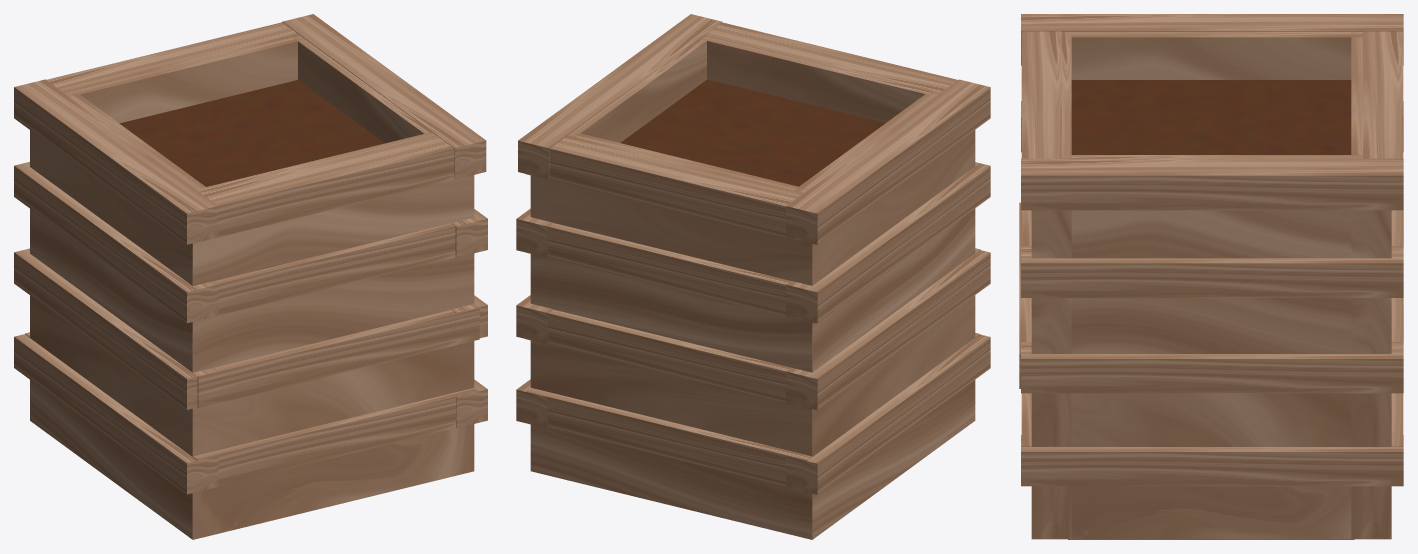
File: woodplantpot 1.fbx
3 renders of one model, left to right at view 1: azimuth 30°, elevation 25°; view 2: azimuth 150°, elevation 25°; view 3: azimuth 270°, elevation 25°, orthographic. The views are drawn at different scales.
Visible parts, largest first — view 1: pCube1, pasted__pasted__pCube1 (×2), pasted__pasted__pasted__pCube1 (×2), pasted__pasted__pasted__pasted__pasted__pCube1 (×3), pasted__pasted__pasted__pasted__pasted__pasted__pCube1 (×2), pasted__pasted__pasted__pasted__pCube1 (×2), pasted__pCube1 (×2), pasted__pasted__pasted__pasted__pasted__pasted__pasted__pCub (×2), pasted__pasted__pasted__pasted__pasted__pasted__pasted__past; view 2: pasted__pCube1 (×2), pasted__pasted__pCube1 (×2), pasted__pasted__pasted__pCube1 (×3), pasted__pasted__pasted__pasted__pasted__pCube1 (×3), pasted__pasted__pasted__pasted__pCube1 (×2), pasted__pasted__pasted__pasted__pasted__pasted__pCube1 (×2), pasted__pasted__pasted__pasted__pasted__pasted__pasted__pCub (×2), pCube1, pasted__pasted__pasted__pasted__pasted__pasted__pasted__past; view 3: pasted__pCube1 (×2), pasted__pasted__pasted__pCube1 (×3), pasted__pasted__pasted__pasted__pasted__pCube1 (×4), pasted__pasted__pasted__pasted__pCube1 (×2), pasted__pasted__pCube1 (×2), pasted__pasted__pasted__pasted__pasted__pasted__pCube1 (×2), pasted__pasted__pasted__pasted__pasted__pasted__pasted__pCub, pCube1.
Boxes of the visible parts, box(x1,y1,x2,y2) form: pCube1: box(193, 132, 474, 539); pasted__pasted__pCube1 (×2): box(30, 22, 299, 539); pasted__pasted__pasted__pCube1 (×2): box(119, 80, 474, 241); pasted__pasted__pasted__pasted__pasted__pCube1 (×3): box(14, 79, 487, 407); pasted__pasted__pasted__pasted__pasted__pasted__pCube1 (×2): box(14, 162, 478, 485); pasted__pasted__pasted__pasted__pCube1 (×2): box(214, 14, 486, 315); pasted__pCube1 (×2): box(30, 35, 431, 420); pasted__pasted__pasted__pasted__pasted__pasted__pasted__pCub (×2): box(14, 248, 487, 428); pasted__pasted__pasted__pasted__pasted__pasted__pasted__past: box(14, 334, 218, 494); pasted__pCube1 (×2): box(530, 36, 812, 539); pasted__pasted__pCube1 (×2): box(526, 91, 975, 539); pasted__pasted__pasted__pCube1 (×3): box(536, 22, 957, 319); pasted__pasted__pasted__pasted__pasted__pCube1 (×3): box(516, 79, 990, 486); pasted__pasted__pasted__pasted__pCube1 (×2): box(518, 14, 790, 402); pasted__pasted__pasted__pasted__pasted__pasted__pCube1 (×2): box(516, 162, 990, 344); pasted__pasted__pasted__pasted__pasted__pasted__pasted__pCub (×2): box(516, 249, 990, 428); pCube1: box(700, 36, 939, 122); pasted__pasted__pasted__pasted__pasted__pasted__pasted__past: box(786, 334, 990, 494); pasted__pCube1 (×2): box(1062, 31, 1391, 539); pasted__pasted__pasted__pCube1 (×3): box(1021, 31, 1403, 246); pasted__pasted__pasted__pasted__pasted__pCube1 (×4): box(1019, 14, 1403, 446); pasted__pasted__pasted__pasted__pCube1 (×2): box(1021, 158, 1403, 341); pasted__pasted__pCube1 (×2): box(1062, 31, 1403, 158); pasted__pasted__pasted__pasted__pasted__pasted__pCube1 (×2): box(1021, 342, 1403, 446); pasted__pasted__pasted__pasted__pasted__pasted__pasted__pCub: box(1021, 435, 1403, 486); pCube1: box(1031, 31, 1071, 539).
Bounding box in the file's own units: 1.18 × 1.3 × 1.18.
Materials: 2 (2 with a texture image).
